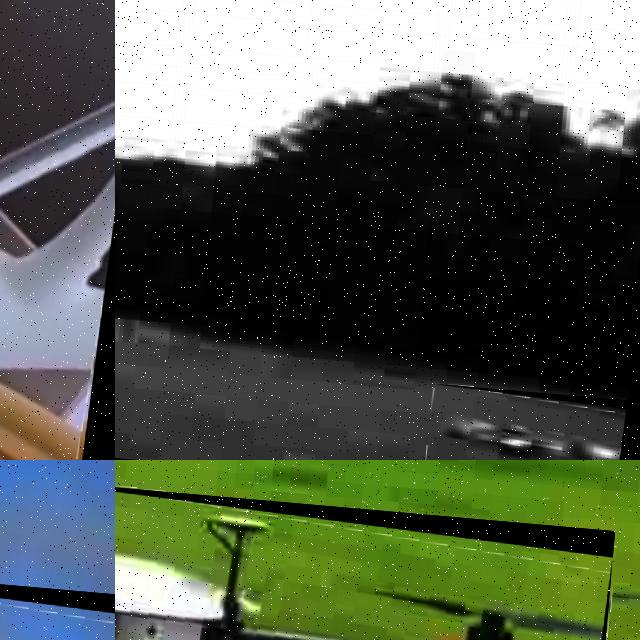drone: (115, 479, 614, 640), (0, 0, 115, 460), (424, 383, 627, 460), (0, 557, 115, 640)
